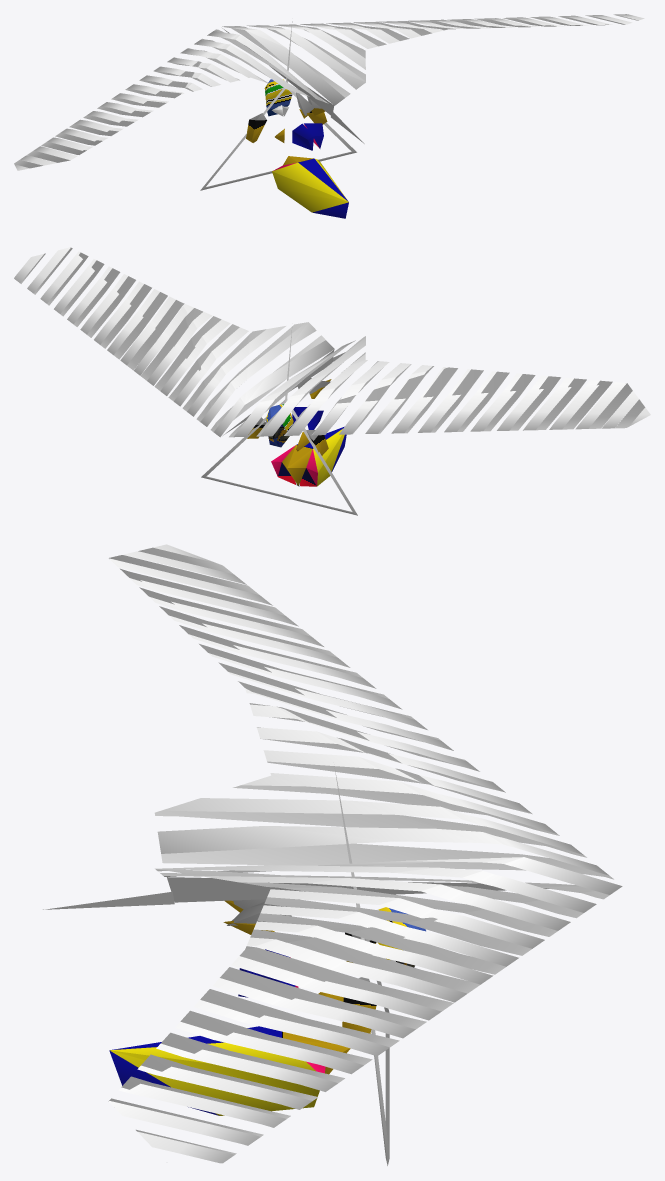
The model's file is uvmd-0285.glb.
The picture shows the model from 3 angles, top to bottom: view 1: azimuth 30°, elevation 25°; view 2: azimuth 150°, elevation 25°; view 3: azimuth 270°, elevation 25°; orthographic projection. The views are drawn at different scales.
Parts seen in each view (by area): view 1: uvmd-0285; view 2: uvmd-0285; view 3: uvmd-0285.
Boxes of the visible parts, bbox=[...] form: uvmd-0285: bbox=[14, 14, 644, 218]; uvmd-0285: bbox=[14, 247, 650, 515]; uvmd-0285: bbox=[43, 544, 622, 1165].
Size of the model in its own units: 728 by 193 by 289.
Materials: 6 (6 with a texture image).
